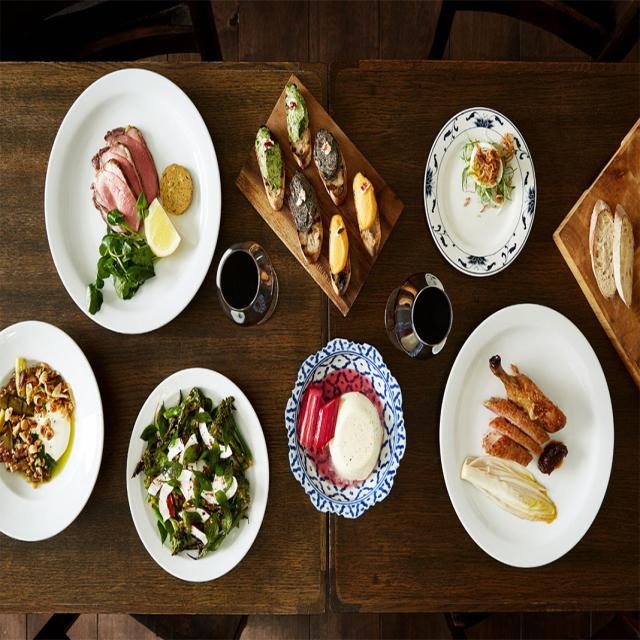ga chien: (468, 359, 564, 476)
